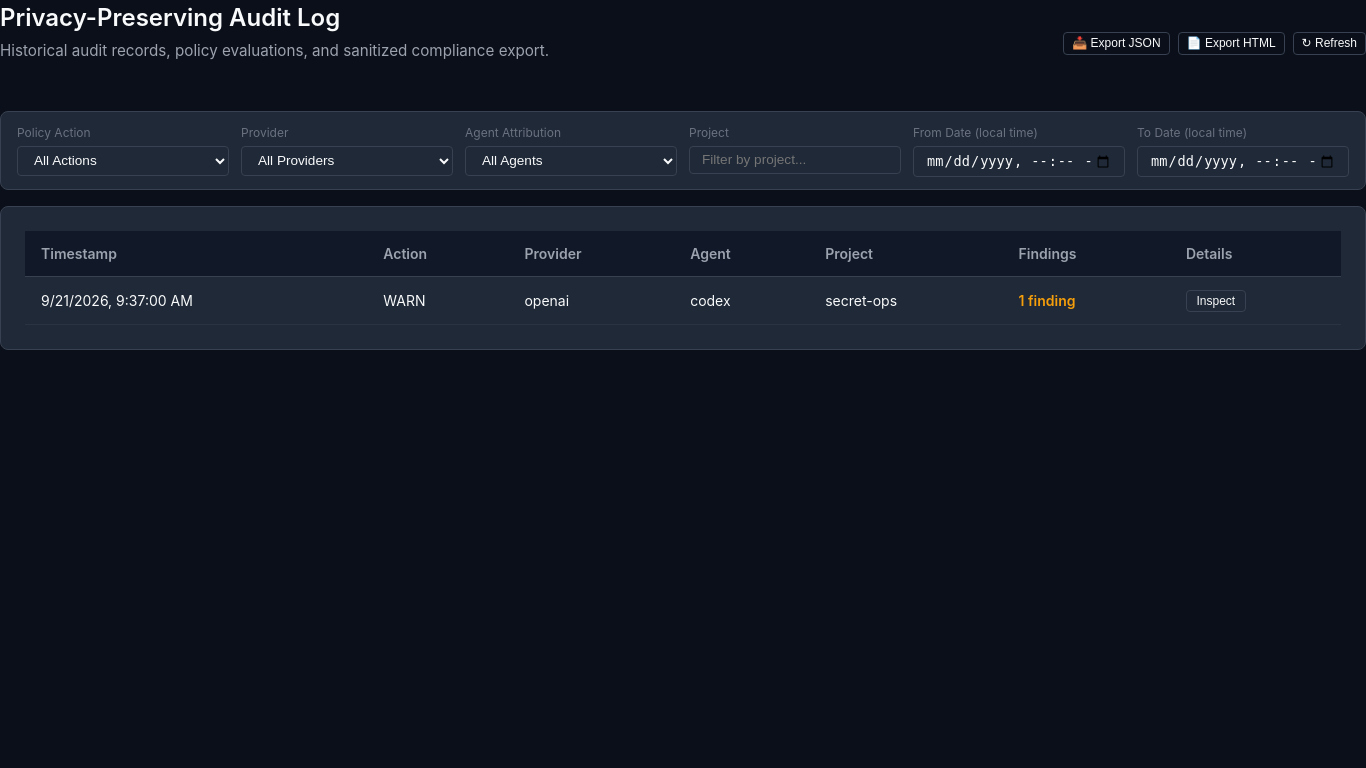
Test case: AuditPage Component › opens inspection modal and guarantees zero secret leakage
Click the button "Inspect". click: (1216, 301)
box: [1186,290,1246,312]
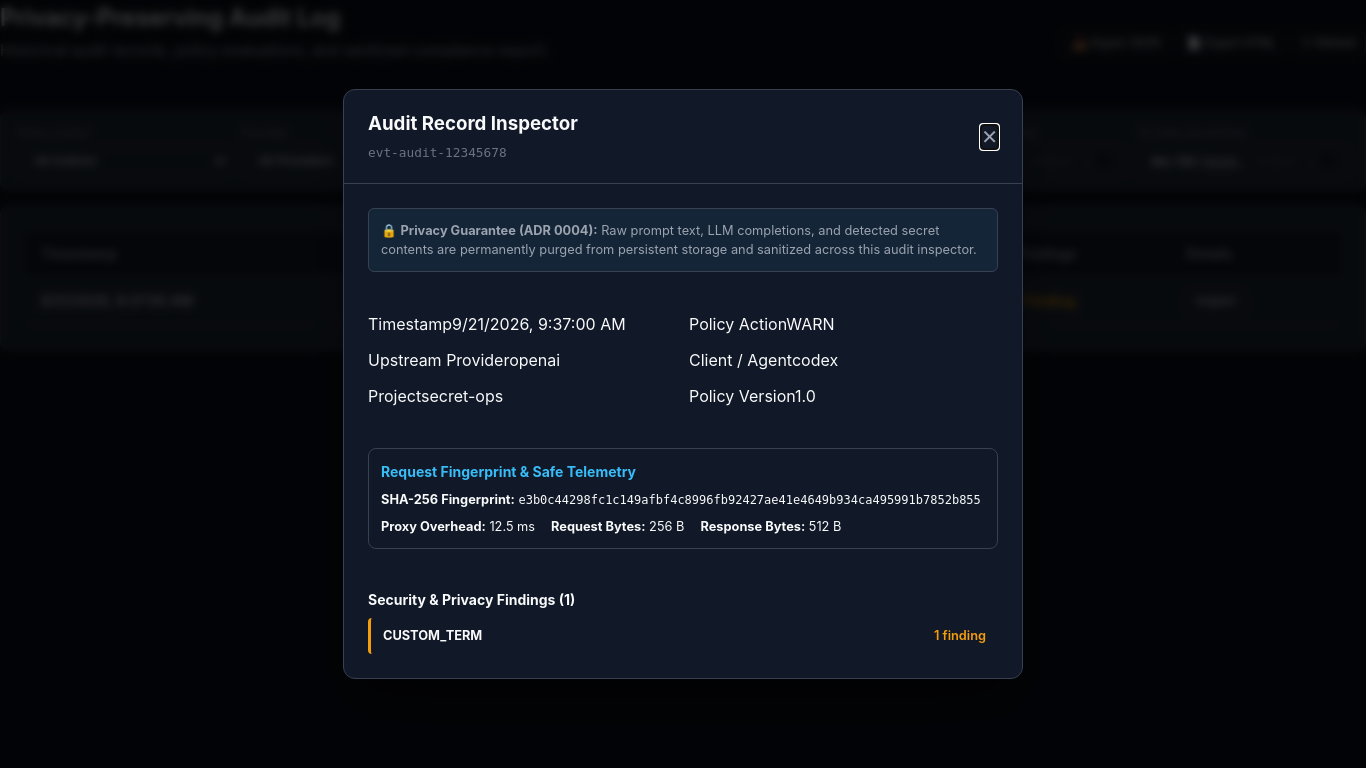
Expected: the heading "Audit Record Inspector" is shown, [368,110,578,139]
Expected: the text "Privacy Guarantee (ADR 0004):" is shown, [401,223,598,238]
Expected: the heading "Request Fingerprint & Safe Telemetry" is shown, [381,463,636,480]
